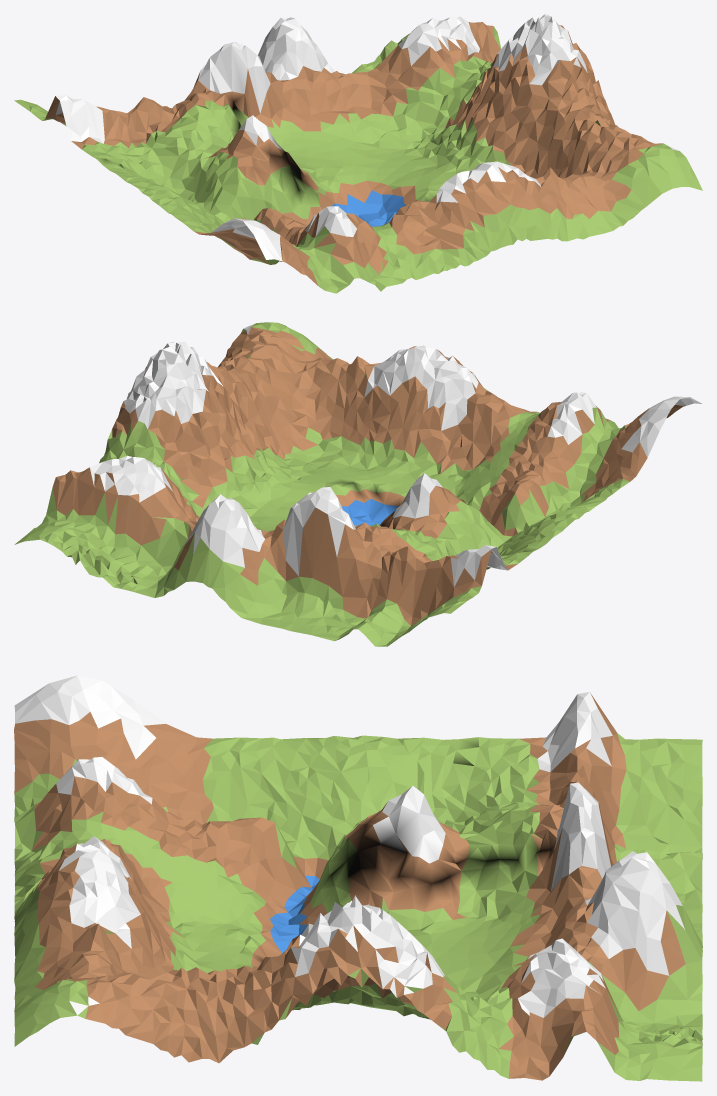
File: first-landscape.dae
3 renders of one model, top to bottom at view 1: azimuth 30°, elevation 25°; view 2: azimuth 150°, elevation 25°; view 3: azimuth 270°, elevation 25°, orthographic. The views are drawn at different scales.
Visible parts, largest first — view 1: Grid; view 2: Grid; view 3: Grid.
Boxes of the visible parts, x1=… form: Grid: x1=14, y1=14, x2=702, y2=293; Grid: x1=14, y1=322, x2=701, y2=646; Grid: x1=14, y1=675, x2=702, y2=1081.
Bounding box in the file's own units: 20.07 × 20.04 × 7.07.
